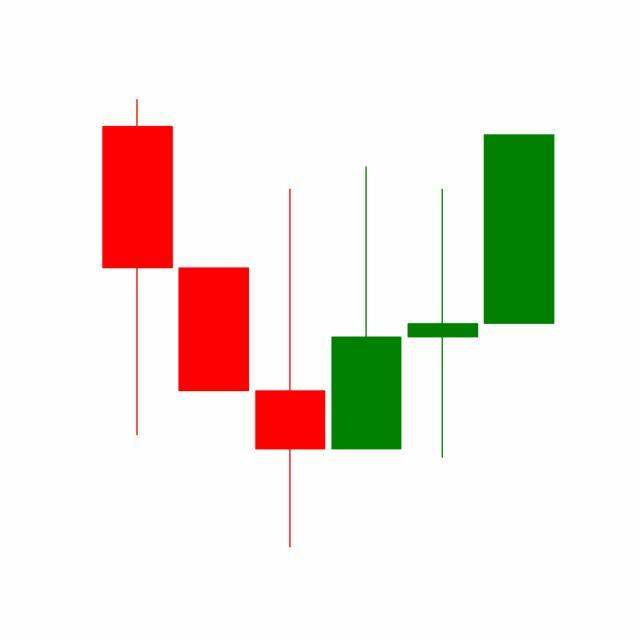Spinning Top: (404, 187, 482, 462)
